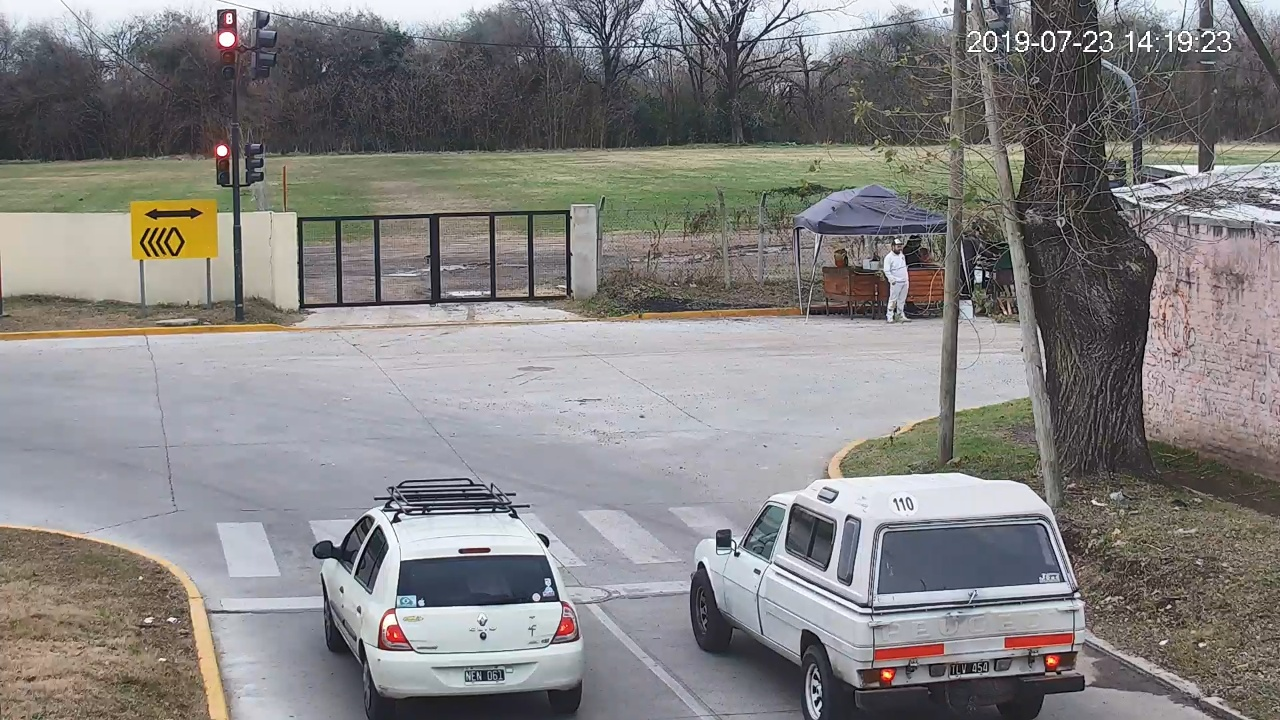car: (690, 473, 1085, 720), (312, 476, 585, 720)
traffic light: (218, 30, 237, 79), (216, 144, 229, 185)
